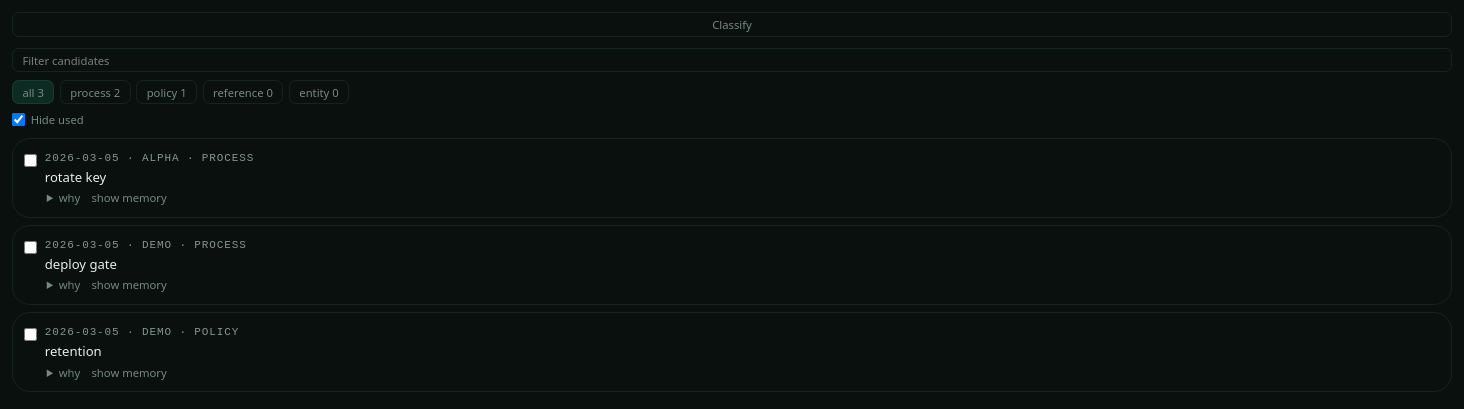
WikiCandidates › type chips narrow the list and counts follow the text filter
Expected: the button "process 2" is shown, [60,80,131,104]
Click the button "policy 1".
click(167, 92)  # box [136,80,197,104]
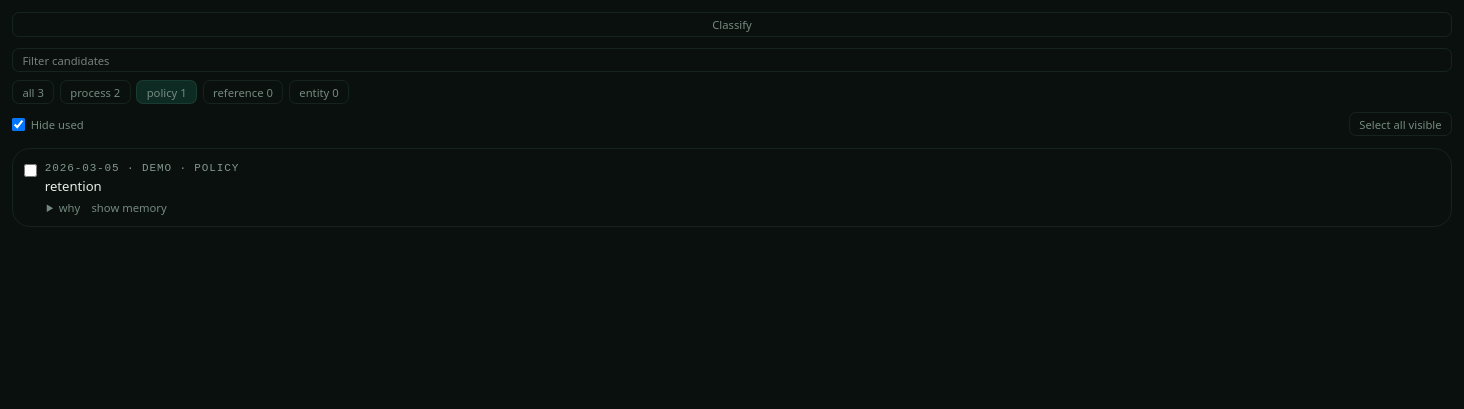
Expected: the checkbox named "Select c" is shown, [24,164,37,176]
Click the button "all 3".
click(33, 92)  # box [12,80,54,104]
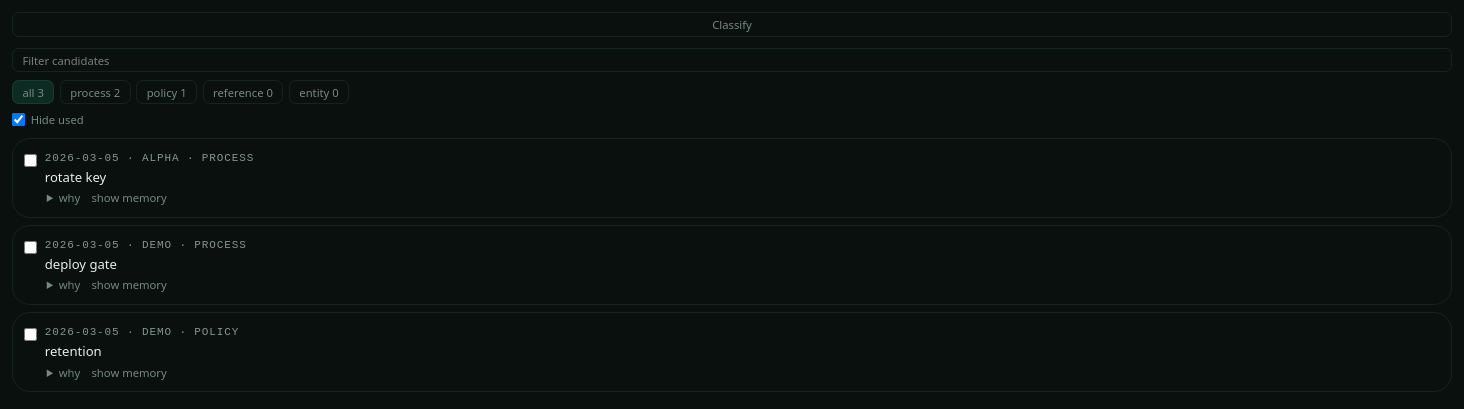
Type "rotate" into the search field with placeholder "Filter candidates".
click(732, 60); type("rotate")  # box [12,48,1452,72]
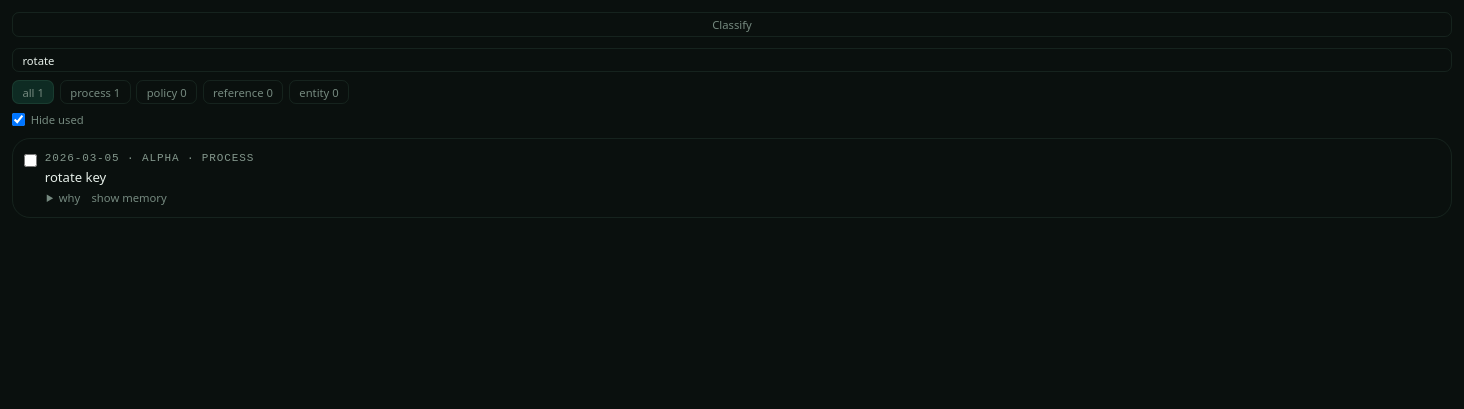
Expected: the button "process 1" is shown, [60,80,131,104]
Expected: the button "policy 0" is shown, [136,80,197,104]
